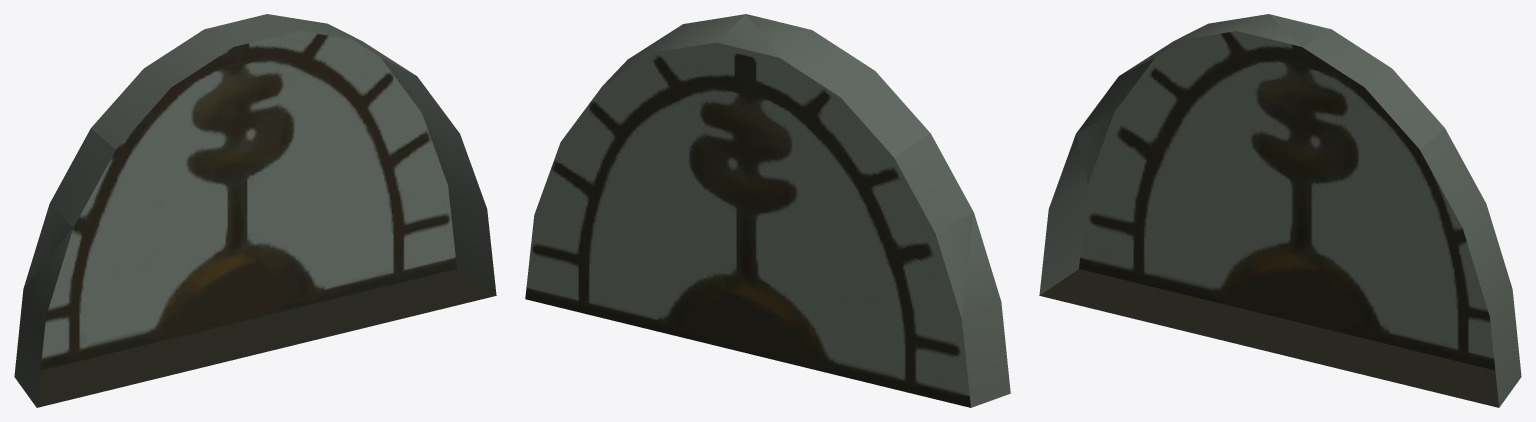
The model's file is lift_indicator.FBX.
3 views of the same model, side by side, from view 1: azimuth 30°, elevation 25°; view 2: azimuth 150°, elevation 25°; view 3: azimuth 330°, elevation 25° (orthographic).
Visible parts, largest first — view 1: Mesh_0056; view 2: Mesh_0056; view 3: Mesh_0056.
Part boxes in pixels (x1,y1,x2,y2): Mesh_0056: (14, 14, 496, 407); Mesh_0056: (525, 14, 1010, 407); Mesh_0056: (1039, 14, 1521, 407).
Bounding box in the file's own units: 355 × 231 × 41.38.
